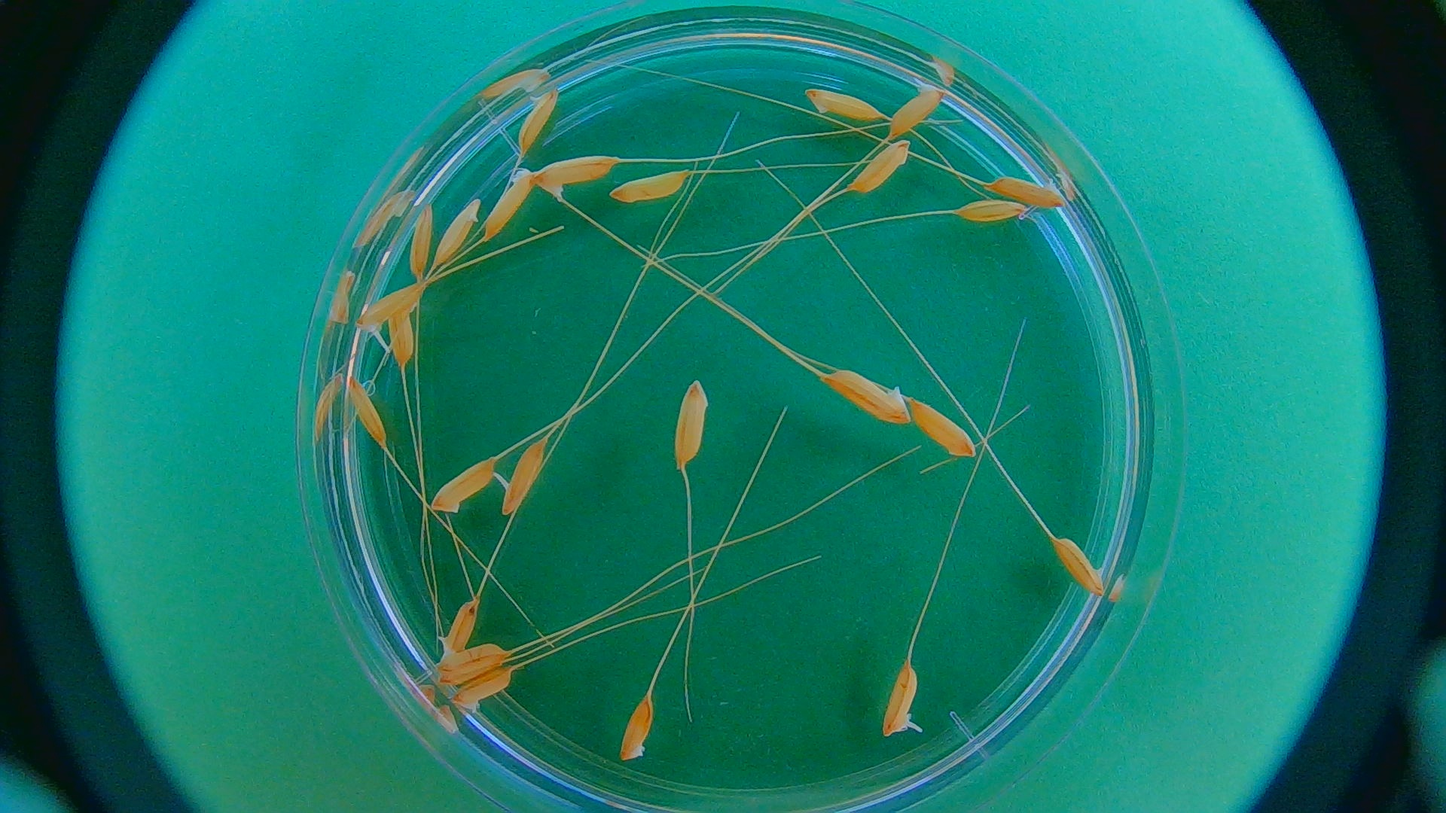no: (815, 365, 913, 426), (477, 167, 540, 246), (908, 396, 980, 458), (345, 373, 398, 455), (536, 149, 618, 200), (428, 455, 498, 514), (850, 135, 914, 196), (674, 376, 714, 473), (434, 196, 484, 272), (615, 691, 663, 765), (981, 168, 1066, 209), (801, 85, 889, 124), (608, 169, 691, 207), (518, 87, 562, 158), (381, 300, 423, 372), (434, 650, 511, 686), (439, 589, 478, 659), (454, 668, 515, 708), (944, 199, 1028, 227), (408, 199, 434, 284)
yes: (880, 78, 952, 141), (1042, 532, 1109, 598), (499, 434, 547, 520), (352, 281, 429, 330), (883, 658, 924, 744)
